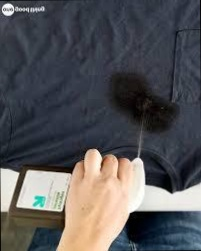oil: (110, 79, 176, 131)
